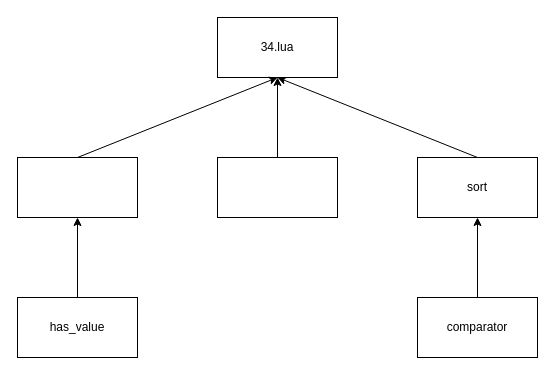
Image size: 555x375. Some labels were removed from this diagram. Here are the shapes that lost their labels. From the top down, the centre of each, then its label:
point (77, 187): extract_words
point (277, 187): frequencies
